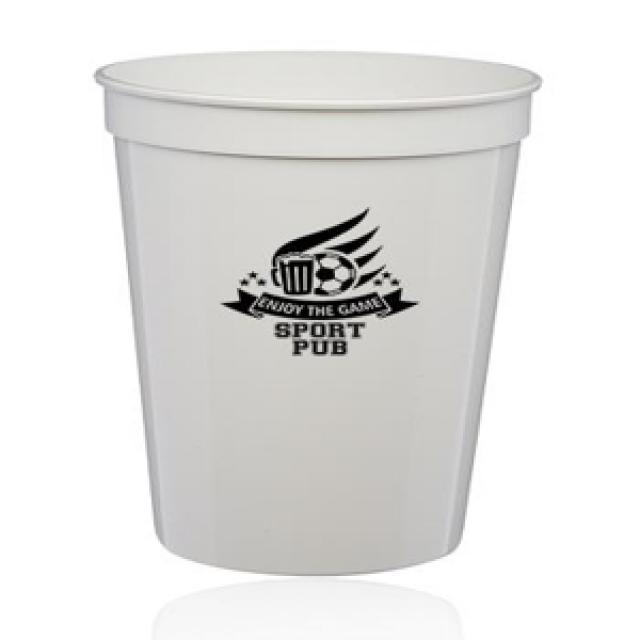plastic cup: (92, 45, 546, 582)
